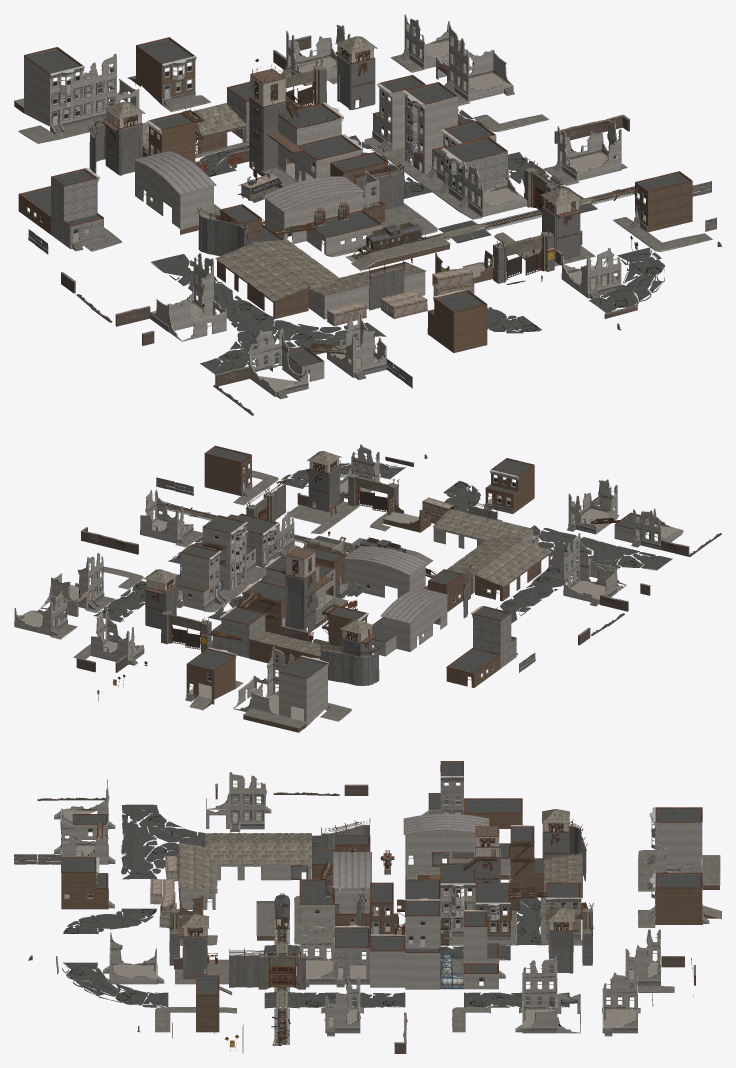
The model's file is compound-mid.glb.
3 views of the same model, one above another, from view 1: azimuth 30°, elevation 25°; view 2: azimuth 150°, elevation 25°; view 3: azimuth 270°, elevation 25° (orthographic). The views are drawn at different scales.
Parts seen in each view (by area): view 1: outbuilding_1st_6x9_LOD0 (×2), watch_tower_d_LOD0, loading_platform_slope, outbuilding_1st_15x9_LOD0, compound_wall_corner_LOD0, spheretank_walkway_e_LOD0, rowhouse_2st_9x12_LOD0, road_nopavement_9x15_railway_LOD0, rowhouse_2st_6x12_LOD0, outbuilding_2st_21x9_LOD0, wall_300x300_LOD0, compound_gate_LOD0 (+6 smaller); view 2: outbuilding_1st_6x9_LOD0 (×2), watch_tower_d_LOD0, loading_platform_slope, outbuilding_1st_15x9_LOD0, spheretank_walkway_e_LOD0, compound_wall_corner_LOD0, rowhouse_2st_9x12_LOD0, rowhouse_2st_6x12_LOD0, wall_300x300_LOD0, road_nopavement_9x15_railway_LOD0, outbuilding_2st_21x9_LOD0, compound_gate_LOD0 (+6 smaller); view 3: outbuilding_1st_6x9_LOD0 (×2), watch_tower_d_LOD0, loading_platform_slope, outbuilding_1st_15x9_LOD0, spheretank_walkway_e_LOD0, road_nopavement_9x15_railway_LOD0, compound_wall_corner_LOD0, rowhouse_2st_6x12_LOD0, outbuilding_2st_21x9_LOD0, rowhouse_2st_9x12_LOD0, wall_300x300_LOD0, compound_gate_LOD0 (+8 smaller).
Part boxes in pixels (left/top/right/bottom): outbuilding_1st_6x9_LOD0 (×2): left=14, top=14, right=692, bottom=399; watch_tower_d_LOD0: left=61, top=36, right=614, bottom=379; loading_platform_slope: left=14, top=52, right=712, bottom=280; outbuilding_1st_15x9_LOD0: left=18, top=46, right=492, bottom=352; compound_wall_corner_LOD0: left=88, top=58, right=563, bottom=309; spheretank_walkway_e_LOD0: left=26, top=20, right=646, bottom=381; rowhouse_2st_9x12_LOD0: left=51, top=88, right=507, bottom=248; road_nopavement_9x15_railway_LOD0: left=152, top=110, right=664, bottom=370; rowhouse_2st_6x12_LOD0: left=53, top=40, right=645, bottom=390; outbuilding_2st_21x9_LOD0: left=133, top=151, right=364, bottom=211; wall_300x300_LOD0: left=60, top=35, right=721, bottom=415; compound_gate_LOD0: left=285, top=65, right=595, bottom=282; outbuilding_1st_6x9_LOD0 (×2): left=14, top=444, right=683, bottom=732; watch_tower_d_LOD0: left=20, top=451, right=670, bottom=695; loading_platform_slope: left=50, top=468, right=439, bottom=728; outbuilding_1st_15x9_LOD0: left=186, top=465, right=534, bottom=699; spheretank_walkway_e_LOD0: left=17, top=447, right=674, bottom=714; compound_wall_corner_LOD0: left=160, top=467, right=497, bottom=685; rowhouse_2st_9x12_LOD0: left=212, top=527, right=516, bottom=668; rowhouse_2st_6x12_LOD0: left=21, top=477, right=680, bottom=721; wall_300x300_LOD0: left=76, top=454, right=721, bottom=672; road_nopavement_9x15_railway_LOD0: left=98, top=463, right=658, bottom=645; outbuilding_2st_21x9_LOD0: left=344, top=546, right=449, bottom=623; compound_gate_LOD0: left=165, top=474, right=393, bottom=652; outbuilding_1st_6x9_LOD0 (×2): left=54, top=761, right=719, bottom=1036; watch_tower_d_LOD0: left=75, top=803, right=679, bottom=1027; loading_platform_slope: left=155, top=849, right=721, bottom=1032; outbuilding_1st_15x9_LOD0: left=61, top=813, right=702, bottom=934; spheretank_walkway_e_LOD0: left=61, top=773, right=695, bottom=1028; road_nopavement_9x15_railway_LOD0: left=62, top=808, right=565, bottom=1045; compound_wall_corner_LOD0: left=168, top=818, right=593, bottom=989; rowhouse_2st_6x12_LOD0: left=62, top=810, right=679, bottom=1027; outbuilding_2st_21x9_LOD0: left=333, top=813, right=489, bottom=888; rowhouse_2st_9x12_LOD0: left=334, top=780, right=581, bottom=978; wall_300x300_LOD0: left=28, top=783, right=695, bottom=1053; compound_gate_LOD0: left=169, top=910, right=592, bottom=1010.
Bounding box in the file's own units: 157 × 35.45 × 181.
59 materials, 59 textured.
